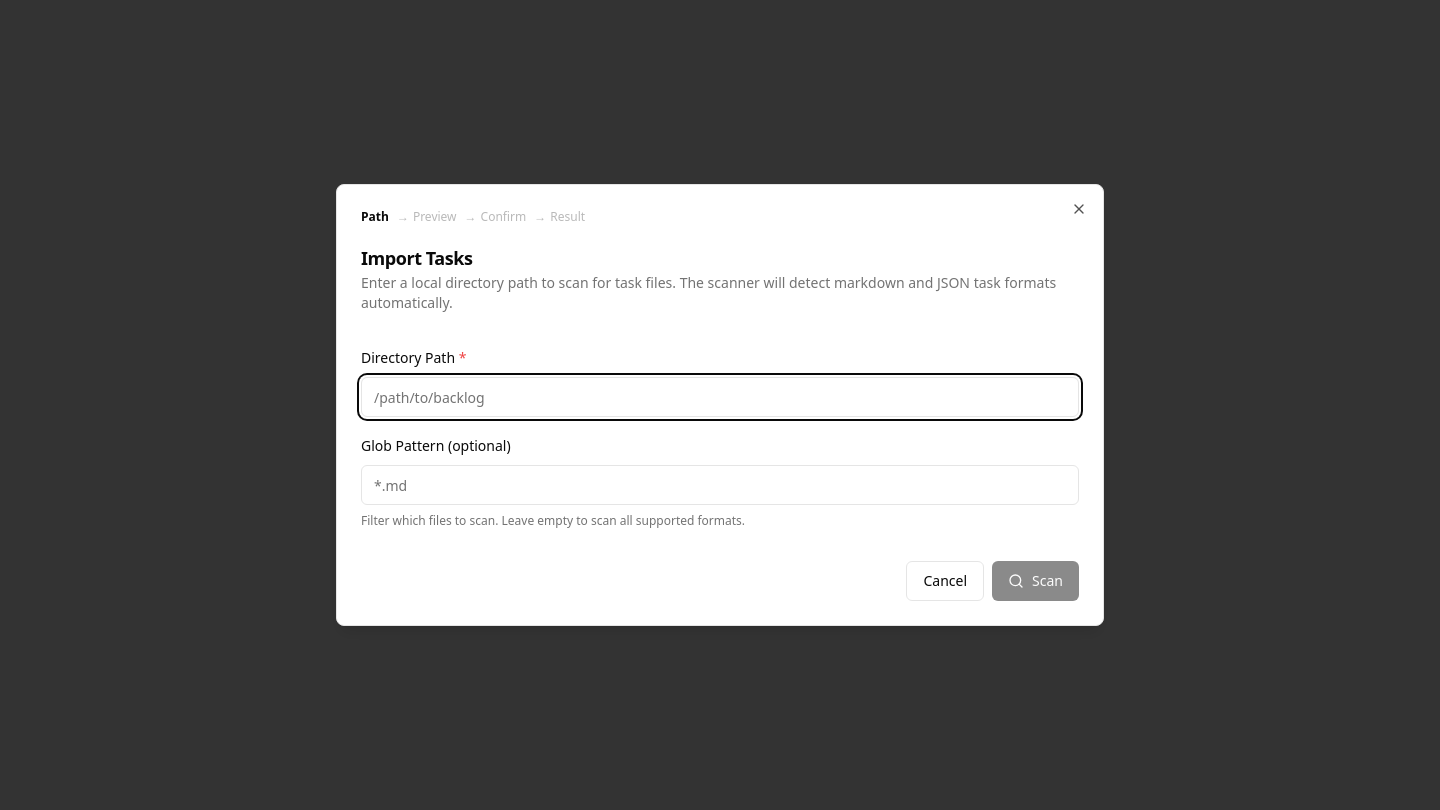
Test: ImportTasksDialog › Step 2 — Preview › allows toggling individual task selection
This screenshot has width=1440, height=810.
Type "/home/user/project" into the field with test id "import-path-input" at x=720, y=397, box [361,377,1079,417]
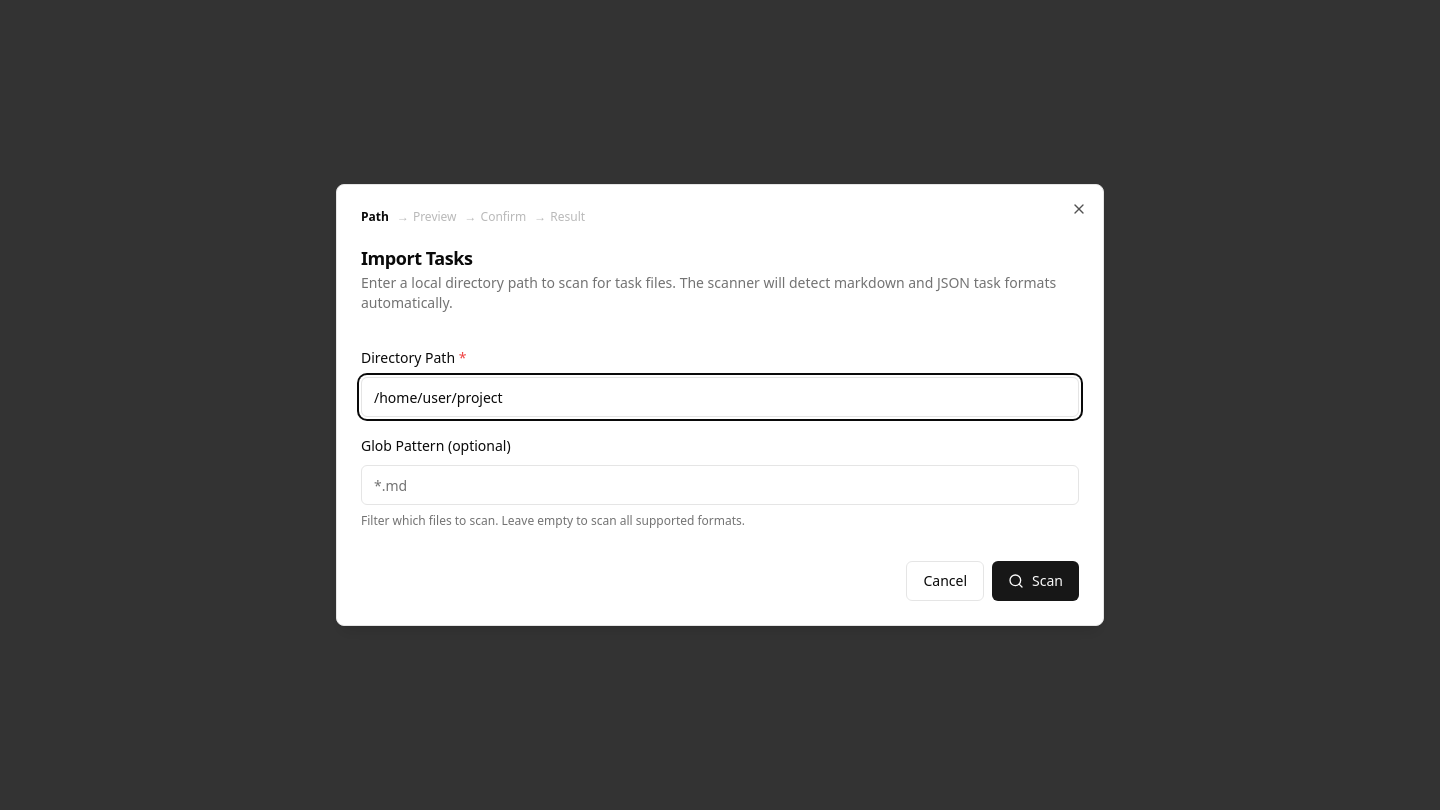
Click the button with test id "import-scan-btn" at x=1036, y=581, box [992,561,1079,601]
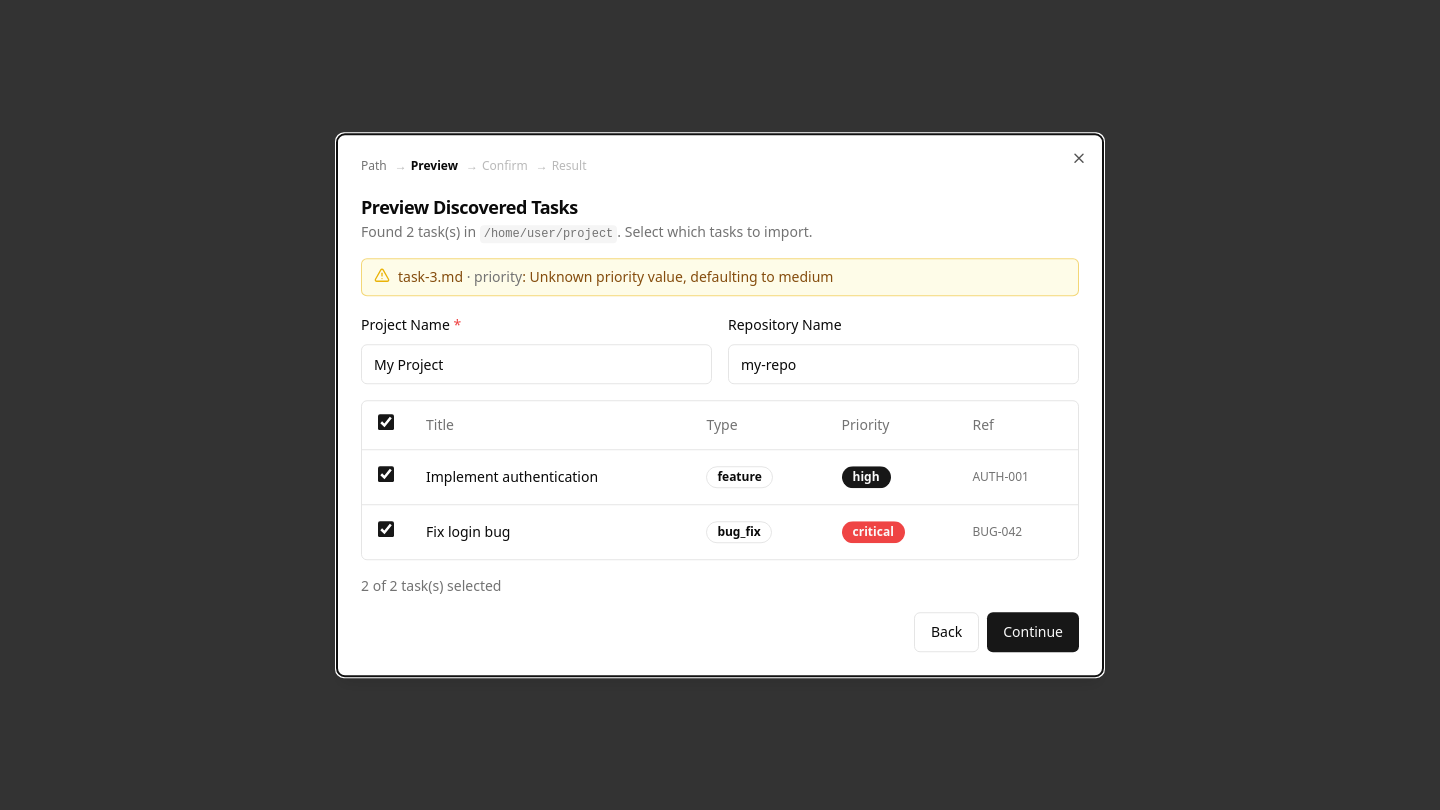
Now the heading "Preview Discovered Tasks" is shown, box [361,195,578,219]
Click the checkbox with test id "import-task-checkbox-0" at x=386, y=474, box [378,466,394,482]
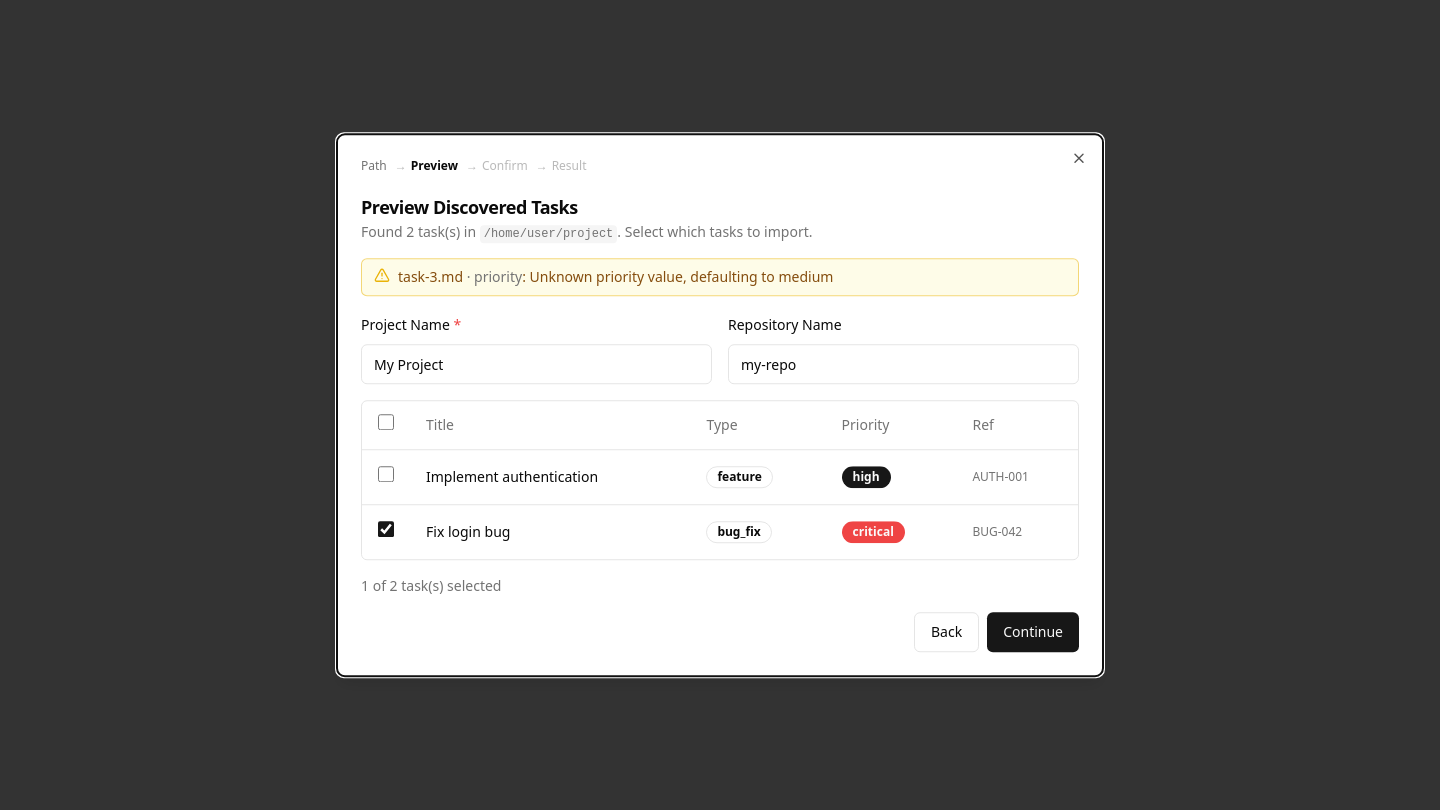
Now the checkbox with test id "import-task-checkbox-0" is not checked, box [378,466,394,482]
Now the checkbox with test id "import-task-checkbox-1" is checked, box [378,521,394,537]
Now the text with test id "import-selection-count" reads "1 of 2 task(s) selected", box [361,576,502,595]
